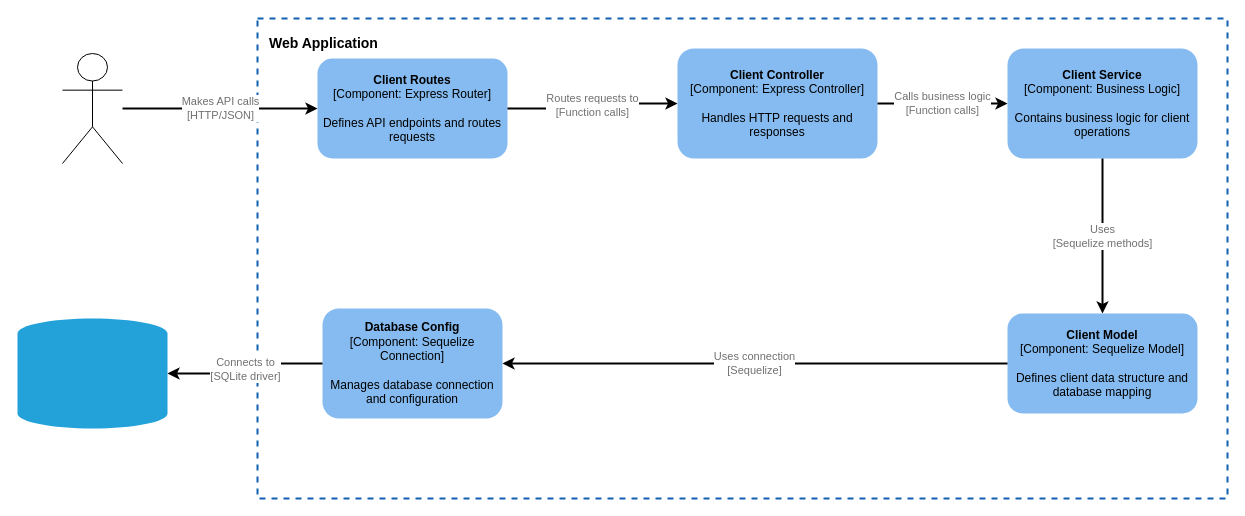
The diagram is 1245 pixels wide and 516 high, and some of its shapes have lost their labels. The shapes that lost their labels are listed below. From the top down, each one's box as (x1, y1, x2, y2) in pixels, then its label:
(62, 52, 122, 164): Actor
(17, 318, 167, 428): Database [Container: SQLite] Stores client information
